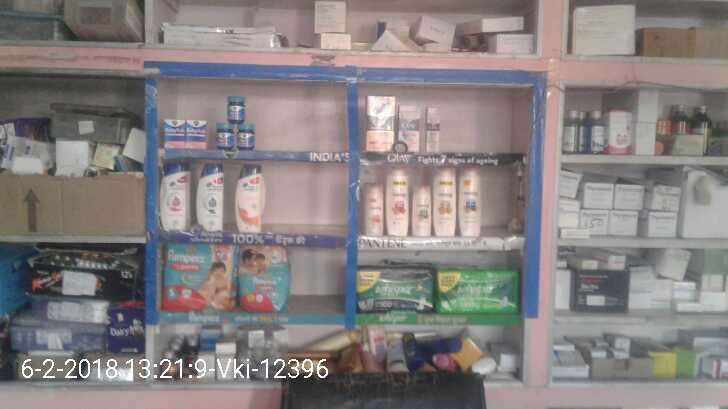vicks: (157, 94, 262, 153)
